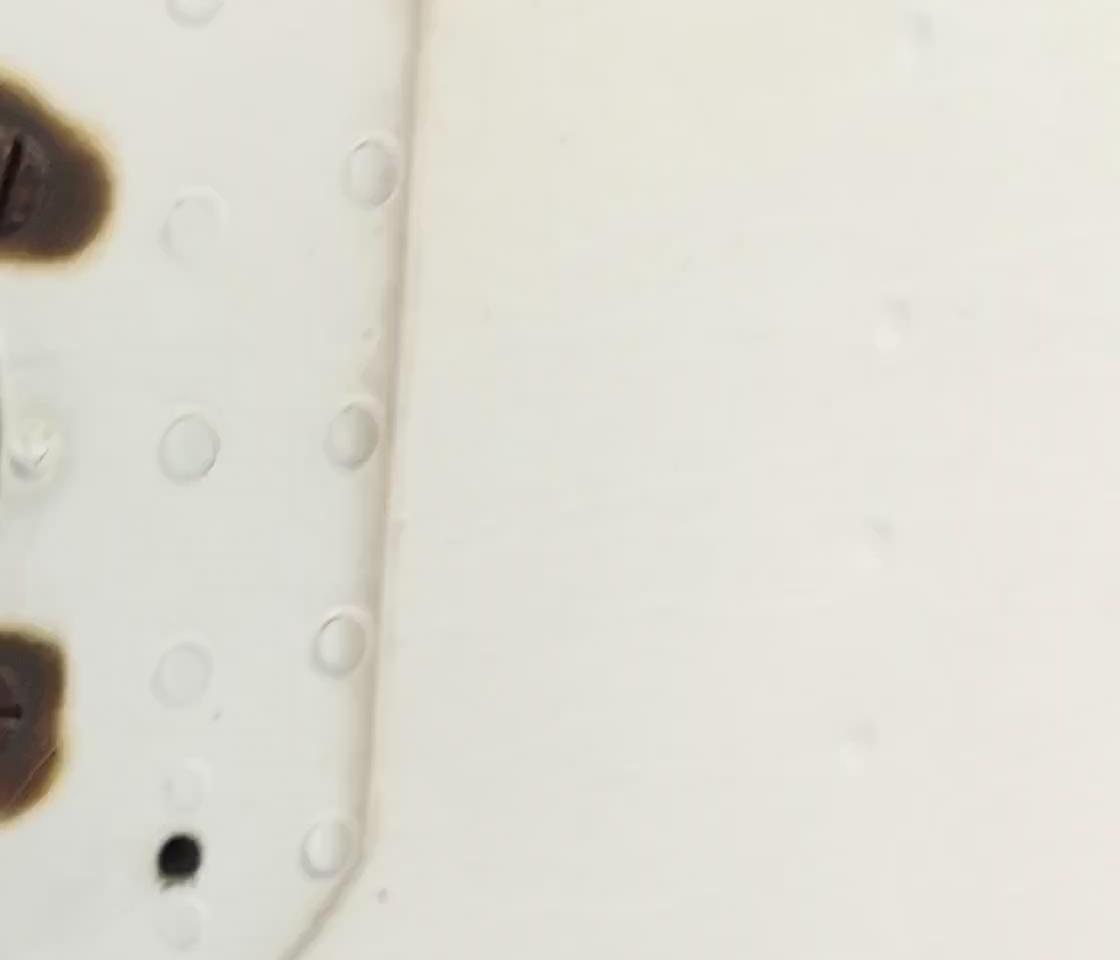rust: (1, 84, 113, 278), (1, 628, 57, 838)
